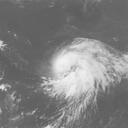cyclone: (42, 37, 120, 106)
